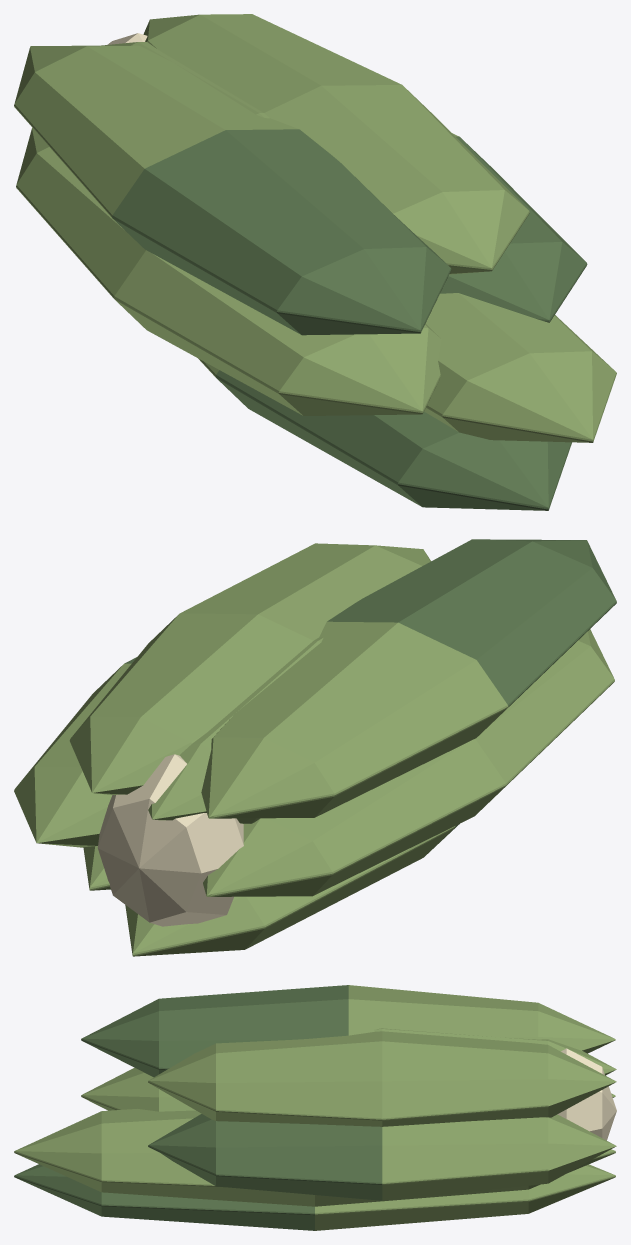
The model's file is romaine_lettuce.glb.
The picture shows the model from 3 angles, top to bottom: view 1: azimuth 30°, elevation 25°; view 2: azimuth 150°, elevation 25°; view 3: azimuth 270°, elevation 25°; orthographic projection. The views are drawn at different scales.
Visible parts, largest first — view 1: romaine_lettuce; view 2: romaine_lettuce; view 3: romaine_lettuce.
Part boxes in pixels (x1,y1,x2,y2): romaine_lettuce: (14, 14, 616, 510); romaine_lettuce: (14, 539, 616, 956); romaine_lettuce: (14, 985, 616, 1230).
Size of the model in its own units: 0.0955 by 0.0629 by 0.1798.
